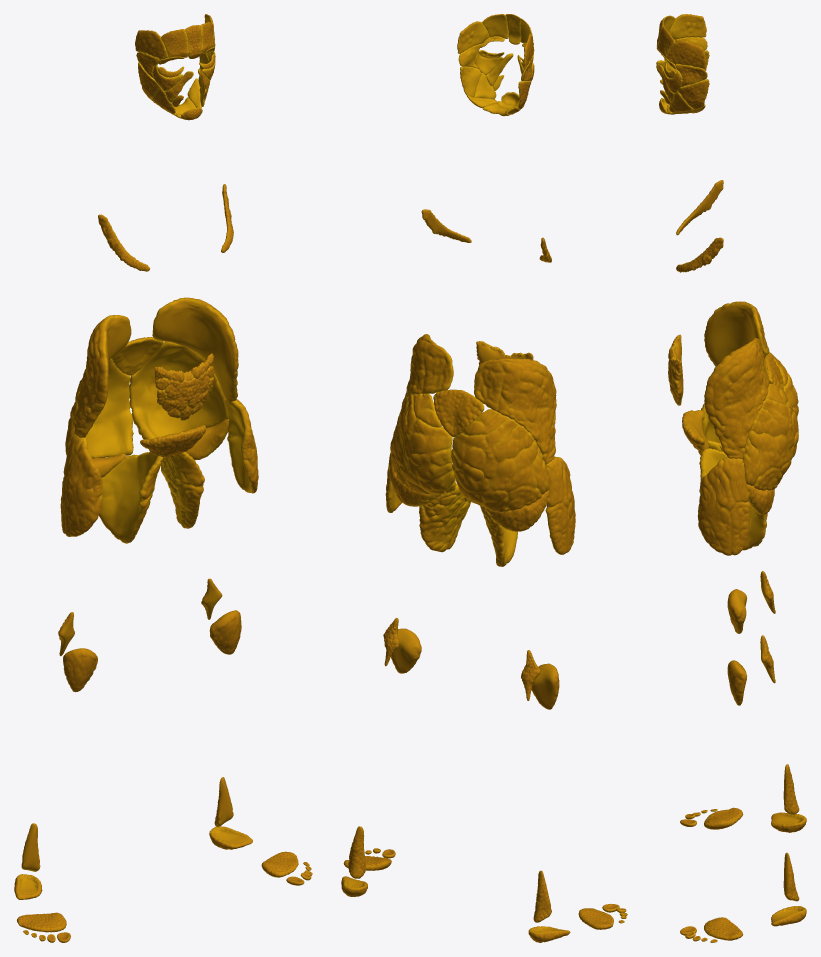
Rendered from fat.glb.
The picture shows the model from 3 angles, left to right: view 1: azimuth 30°, elevation 25°; view 2: azimuth 150°, elevation 25°; view 3: azimuth 270°, elevation 25°; orthographic projection. The views are drawn at different scales.
Visible parts, largest first — view 1: Posterior_Gluteal_Fmale_l, Lateral_Gluteal_l, Inner_Thigh_r, Lateral_Gluteal_r, Posterior_Gluteal_Fmale_r, Outer_Thigh_r, Abdominal_Fat_Pad_m, Inner_Thigh_l, Outer_Thigh_l, Foot_Fat_Pads_l, Foot_Fat_Pads_r, Rhombus_of_Michaelis_m (+8 smaller); view 2: Posterior_Gluteal_Fmale_r, Lateral_Gluteal_r, Posterior_Gluteal_Fmale_l, Outer_Thigh_r, Inner_Thigh_l, Lateral_Gluteal_l, Rhombus_of_Michaelis_m, Foot_Fat_Pads_r, Posterior_Gluteal_r, Inner_Thigh_r, Foot_Fat_Pads_l, Infrapatellar_Fat_Pad_l (+6 smaller); view 3: Lateral_Gluteal_l, Outer_Thigh_l, Posterior_Gluteal_Fmale_l, Lateral_Gluteal_r, Foot_Fat_Pads_l, Foot_Fat_Pads_r, Inner_Thigh_l, Abdominal_Fat_Pad_m, Lateral_Temporal_l, Lateral_Temporal_r, Pubic_Fat_Pad_m, Infrapatellar_Fat_Pad_r (+11 smaller).
Boxes of the visible parts, bbox=[...] form: Posterior_Gluteal_Fmale_l: bbox=[129, 341, 228, 439]; Lateral_Gluteal_l: bbox=[152, 297, 238, 403]; Inner_Thigh_r: bbox=[99, 452, 163, 543]; Lateral_Gluteal_r: bbox=[74, 315, 131, 437]; Posterior_Gluteal_Fmale_r: bbox=[65, 358, 133, 458]; Outer_Thigh_r: bbox=[60, 434, 102, 536]; Abdominal_Fat_Pad_m: bbox=[154, 353, 214, 420]; Inner_Thigh_l: bbox=[161, 452, 204, 528]; Outer_Thigh_l: bbox=[225, 399, 258, 493]; Foot_Fat_Pads_l: bbox=[209, 826, 312, 885]; Foot_Fat_Pads_r: bbox=[14, 874, 70, 942]; Rhombus_of_Michaelis_m: bbox=[111, 337, 163, 375]; Posterior_Gluteal_Fmale_r: bbox=[451, 409, 549, 512]; Lateral_Gluteal_r: bbox=[474, 358, 556, 464]; Posterior_Gluteal_Fmale_l: bbox=[390, 393, 455, 494]; Outer_Thigh_r: bbox=[545, 456, 575, 554]; Inner_Thigh_l: bbox=[419, 483, 470, 552]; Lateral_Gluteal_l: bbox=[402, 334, 453, 404]; Rhombus_of_Michaelis_m: bbox=[433, 389, 484, 437]; Foot_Fat_Pads_r: bbox=[528, 904, 627, 942]; Posterior_Gluteal_r: bbox=[483, 490, 549, 531]; Inner_Thigh_r: bbox=[480, 506, 517, 566]; Foot_Fat_Pads_l: bbox=[341, 848, 395, 896]; Infrapatellar_Fat_Pad_l: bbox=[391, 628, 421, 673]; Lateral_Gluteal_l: bbox=[704, 338, 769, 459]; Outer_Thigh_l: bbox=[697, 457, 750, 555]; Posterior_Gluteal_Fmale_l: bbox=[742, 383, 798, 490]; Lateral_Gluteal_r: bbox=[704, 301, 769, 366]; Foot_Fat_Pads_l: bbox=[680, 906, 806, 942]; Foot_Fat_Pads_r: bbox=[680, 807, 806, 832]; Inner_Thigh_l: bbox=[699, 448, 767, 550]; Abdominal_Fat_Pad_m: bbox=[668, 334, 683, 405]; Lateral_Temporal_l: bbox=[666, 40, 706, 68]; Lateral_Temporal_r: bbox=[669, 14, 706, 39]; Pubic_Fat_Pad_m: bbox=[682, 410, 708, 450]; Infrapatellar_Fat_Pad_r: bbox=[727, 589, 746, 633].
Bounding box in the file's own units: 0.5469 × 1.65 × 0.2615.
2 materials, 2 textured.
